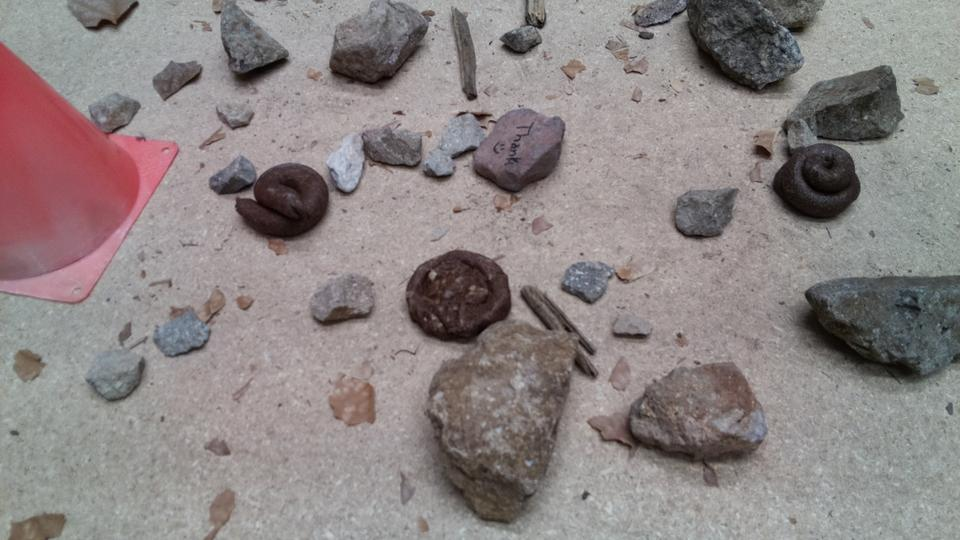poop: (405, 247, 512, 342), (233, 161, 330, 240), (770, 141, 863, 223)
